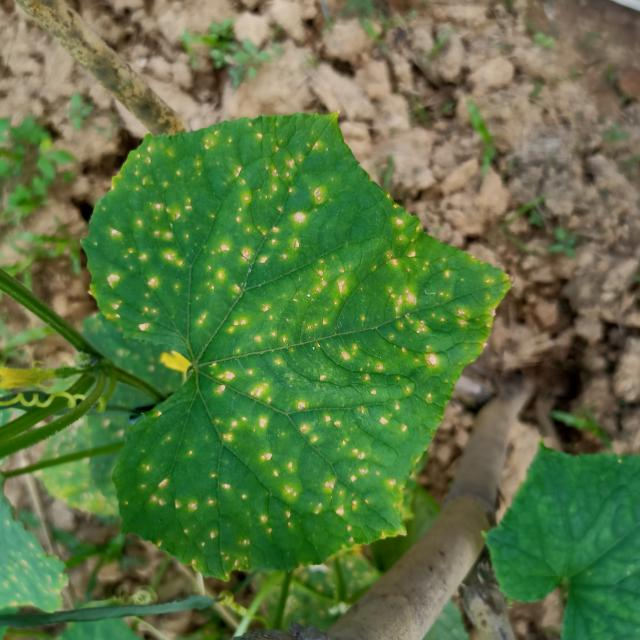disease_cucumber: (56, 124, 496, 556)
